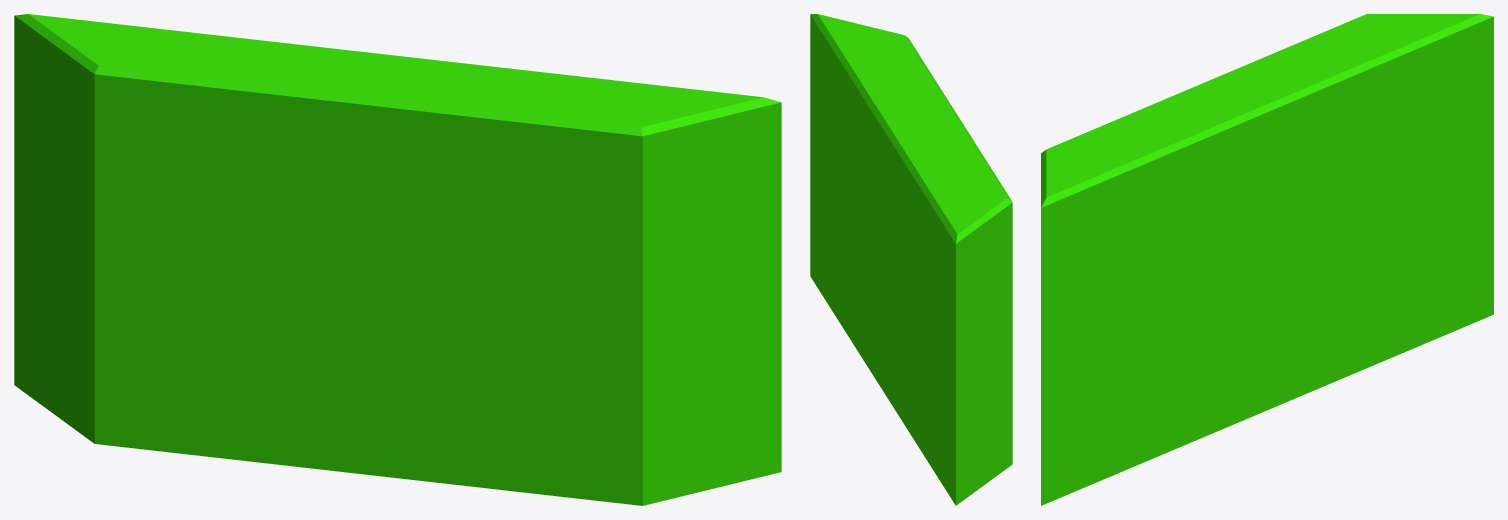
File: diagonal_4x3.fbx
3 views of the same model, side by side, from view 1: azimuth 30°, elevation 25°; view 2: azimuth 150°, elevation 25°; view 3: azimuth 270°, elevation 25° (orthographic). The views are drawn at different scales.
Visible parts, largest first — view 1: diagonal_4x3; view 2: diagonal_4x3; view 3: diagonal_4x3.
Boxes of the visible parts, <box> form: diagonal_4x3: <box>14,14,781,505</box>; diagonal_4x3: <box>810,14,1012,505</box>; diagonal_4x3: <box>1041,14,1493,505</box>.
Bounding box in the file's own units: 420 × 310 × 420.
